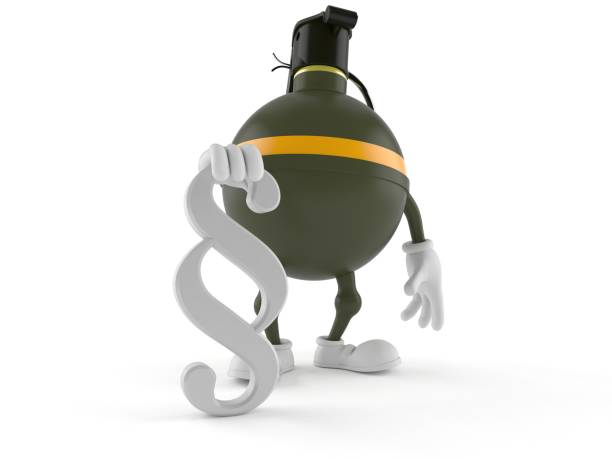e1: (239, 9, 410, 276)
